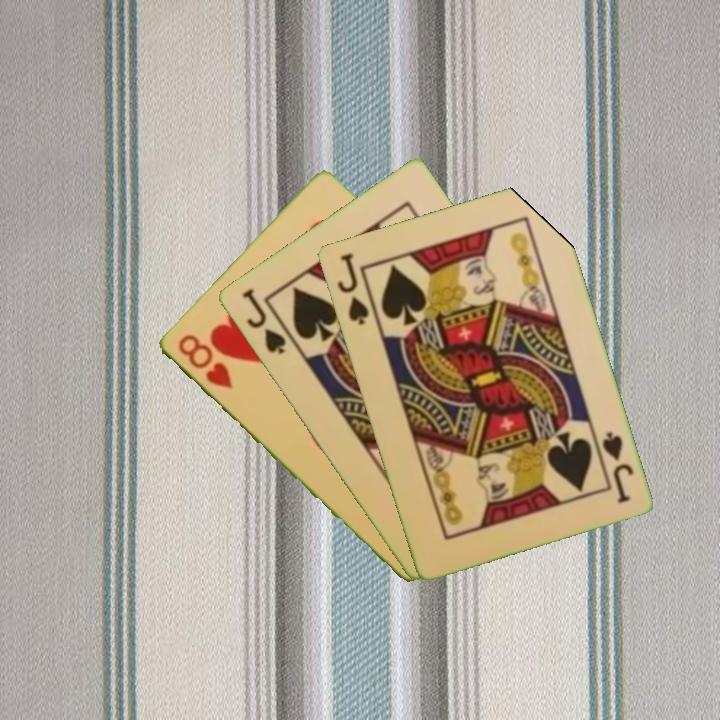8h: (174, 330, 235, 392)
Js: (237, 284, 288, 358), (333, 249, 372, 328), (598, 427, 636, 506)
